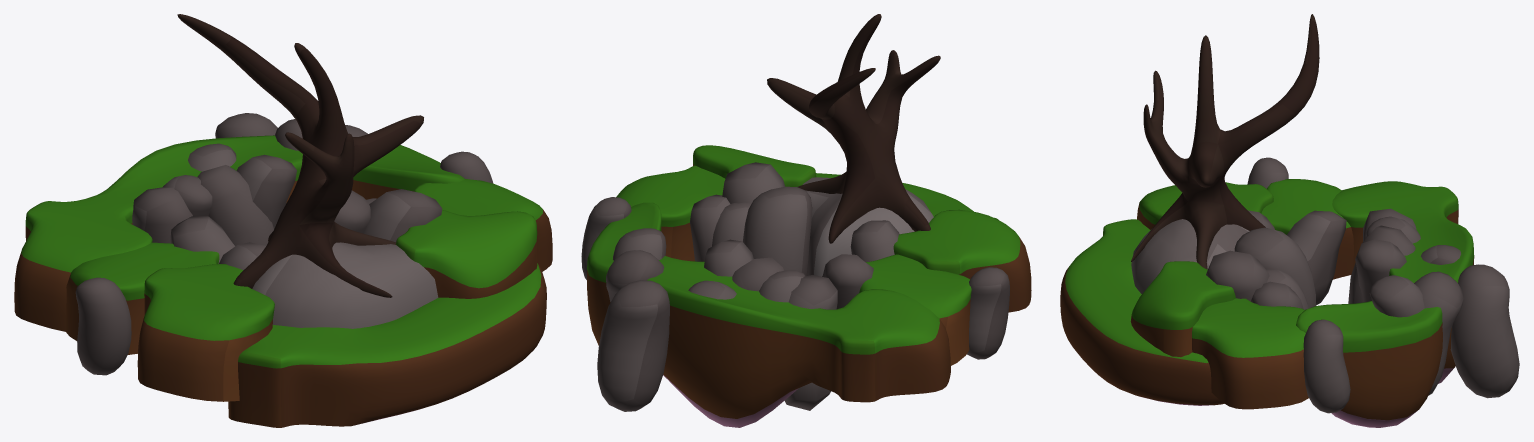
Rendered from Tree_rocks.glb.
3 renders of one model, left to right at view 1: azimuth 30°, elevation 25°; view 2: azimuth 150°, elevation 25°; view 3: azimuth 270°, elevation 25°, orthographic. The views are drawn at different scales.
Visible parts, largest first — view 1: Ground, Tree, Rocks2, Base_rock, Rocks1; view 2: Ground, Rocks1, Tree, Rocks2, Base_rock; view 3: Ground, Rocks1, Tree, Rocks2, Base_rock.
Boxes of the visible parts, left/top/right/bottom form: Ground: left=14, top=135, right=552, bottom=427; Tree: left=177, top=14, right=423, bottom=297; Rocks2: left=132, top=154, right=442, bottom=270; Base_rock: left=252, top=242, right=438, bottom=328; Rocks1: left=75, top=113, right=493, bottom=375; Ground: left=587, top=145, right=1031, bottom=427; Rocks1: left=581, top=186, right=1009, bottom=411; Tree: left=767, top=14, right=940, bottom=243; Rocks2: left=690, top=162, right=899, bottom=410; Base_rock: left=803, top=177, right=933, bottom=276; Ground: left=1060, top=179, right=1474, bottom=427; Rocks1: left=1234, top=157, right=1519, bottom=413; Tree: left=1131, top=14, right=1319, bottom=269; Rocks2: left=1206, top=208, right=1416, bottom=308; Base_rock: left=1131, top=219, right=1249, bottom=293.
Size of the model in its own units: 23.78 by 19.08 by 23.95.
1 material, 1 textured.
